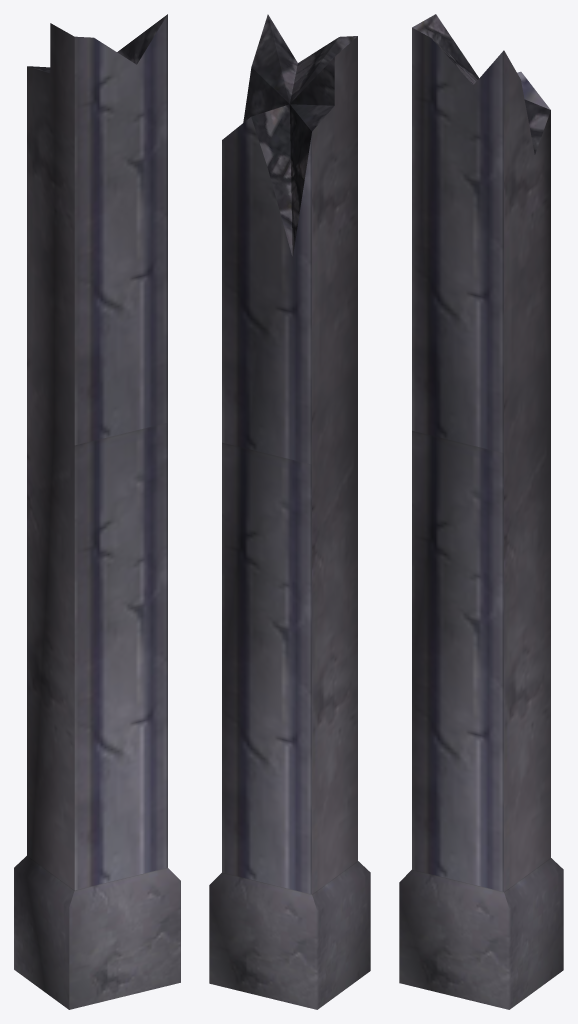
The model's file is BOSS_Pillars_06.FBX.
3 renders of one model, left to right at view 1: azimuth 30°, elevation 25°; view 2: azimuth 150°, elevation 25°; view 3: azimuth 330°, elevation 25°, orthographic. The views are drawn at different scales.
Visible parts, largest first — view 1: BOSS_Pillars_06; view 2: BOSS_Pillars_06; view 3: BOSS_Pillars_06.
Boxes of the visible parts, left/top/right/bottom form: BOSS_Pillars_06: left=14, top=14, right=180, bottom=1009; BOSS_Pillars_06: left=209, top=14, right=370, bottom=1009; BOSS_Pillars_06: left=399, top=14, right=563, bottom=1009.
Bounding box in the file's own units: 0.3878 × 3.21 × 0.331.
